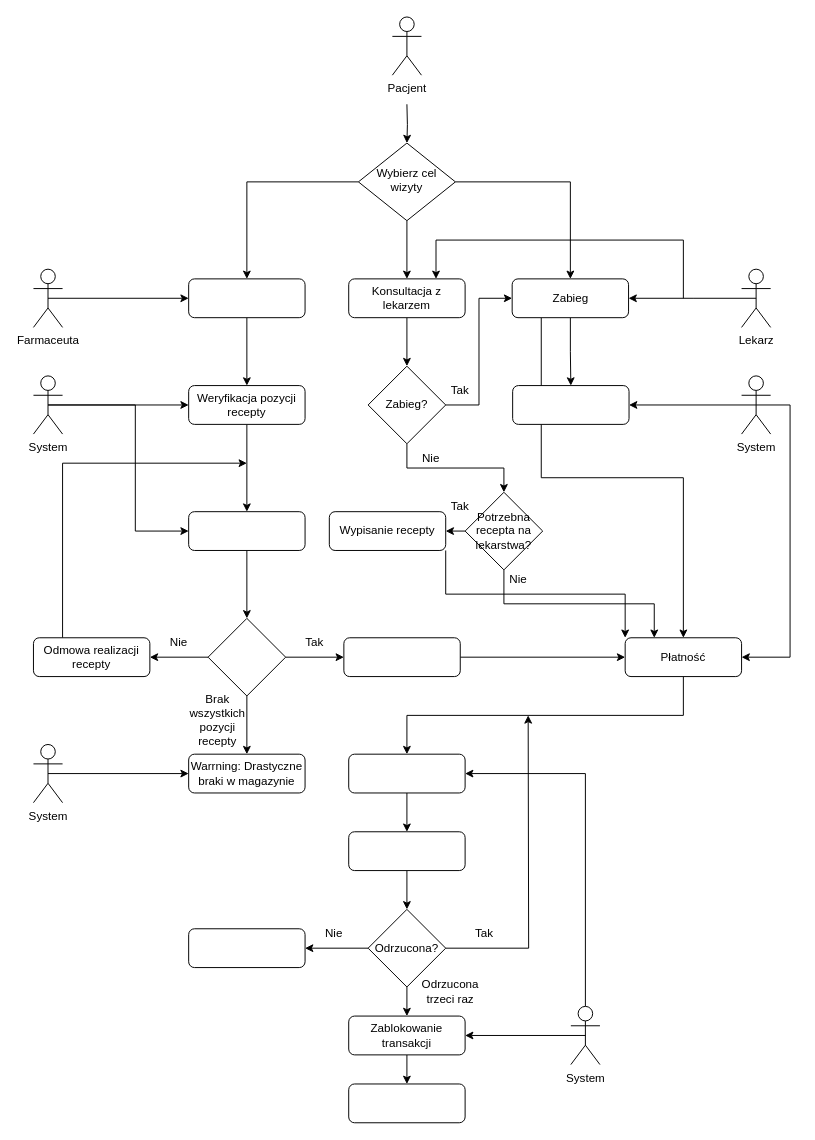
The diagram is 815 pixels wide and 1140 high, and some of its shapes have lost their labels. The shapes that lost their labels are listed below. From the top down, each one's centre as x and y in pixels, then its label:
At (246,298): "Realizacja recepty".
At (570,404): "Rejestracja zabiegu".
At (246,530): "Sprawdzenie dostępności lekarstw".
At (246,656): "Dostępne?".
At (401,657): "Sprzedaż lekarstw".
At (406,773): "Zapewnienie bezpeicznej płatności".
At (406,851): "Dokonanie płatnośći".
At (246,948): "Dokonana płatność".
At (406,1103): "Poinformowanie banku o blokadzie".
